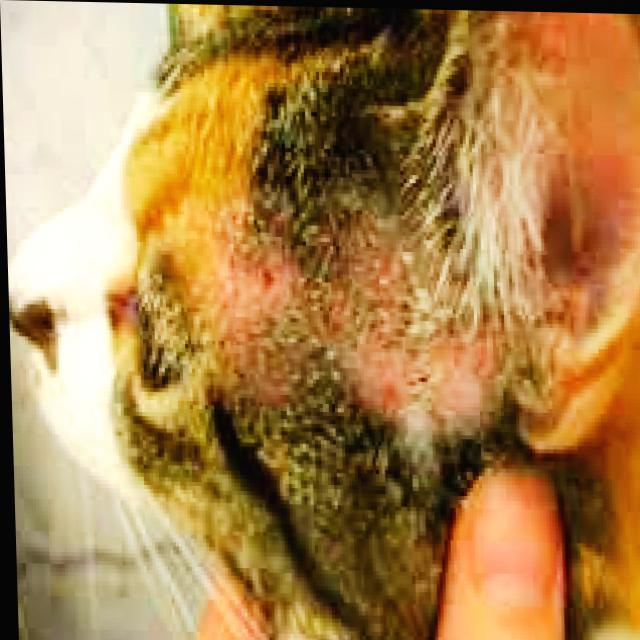ringworm: (299, 227, 506, 440), (222, 236, 295, 374)
